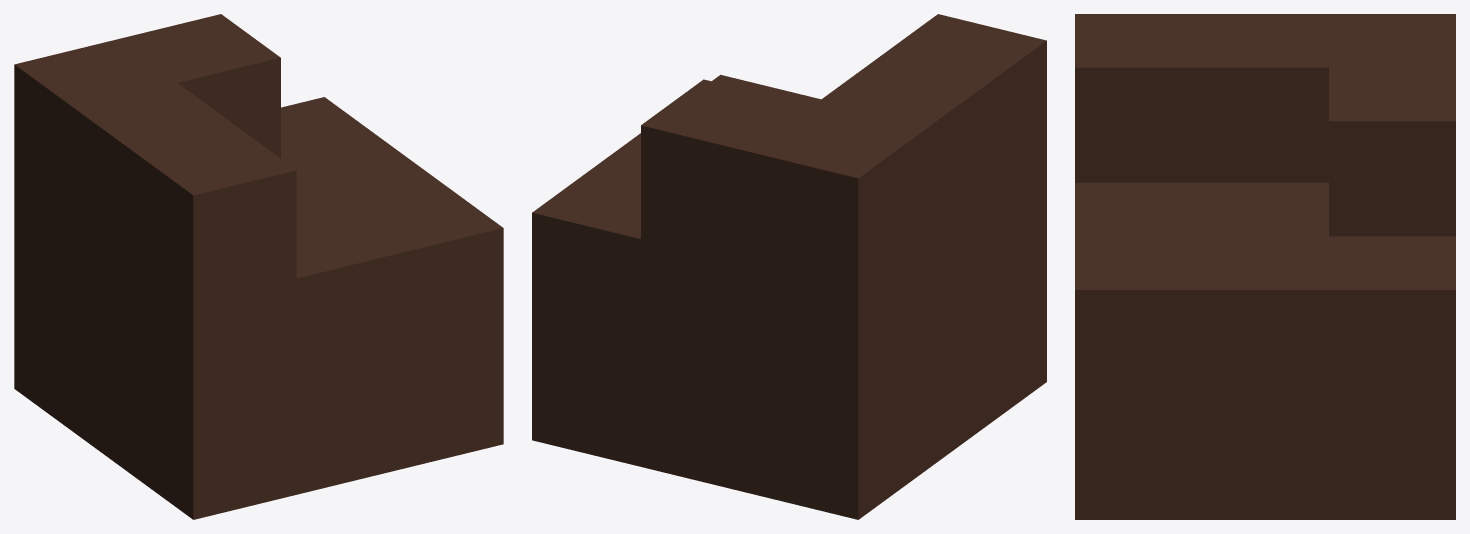
Rendered from beaver__leg_br.glb.
3 views of the same model, side by side, from view 1: azimuth 30°, elevation 25°; view 2: azimuth 150°, elevation 25°; view 3: azimuth 270°, elevation 25° (orthographic). The views are drawn at different scales.
Visible parts, largest first — view 1: beaver__leg_br; view 2: beaver__leg_br; view 3: beaver__leg_br.
Boxes of the visible parts, x1=… form: beaver__leg_br: x1=14, y1=14, x2=503, y2=519; beaver__leg_br: x1=532, y1=14, x2=1046, y2=519; beaver__leg_br: x1=1075, y1=14, x2=1455, y2=519.
Size of the model in its own units: 0.3 by 0.3 by 0.3.
Materials: 1 (1 with a texture image).
